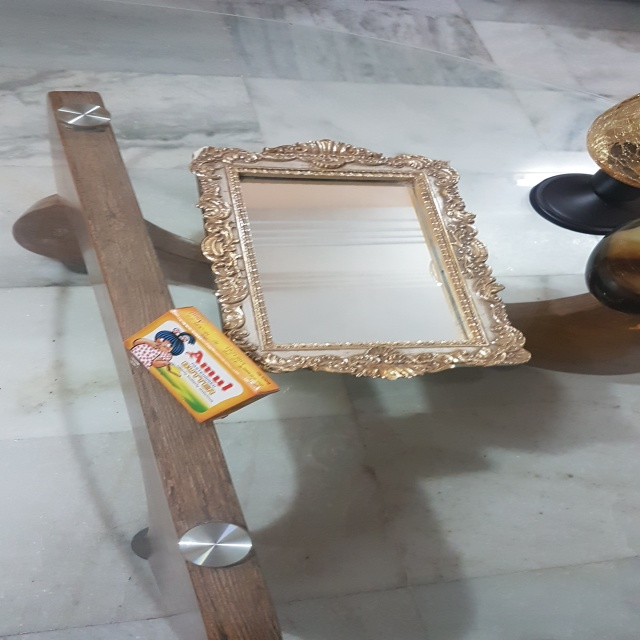butter: (126, 308, 277, 425)
